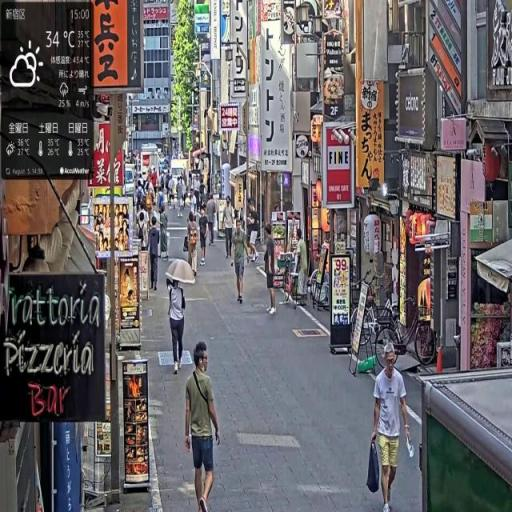person: (367, 343, 413, 512), (184, 340, 222, 512), (167, 269, 189, 374), (231, 217, 251, 307), (264, 227, 279, 319), (148, 217, 163, 293), (223, 195, 238, 261), (199, 206, 211, 271), (208, 191, 219, 249)
